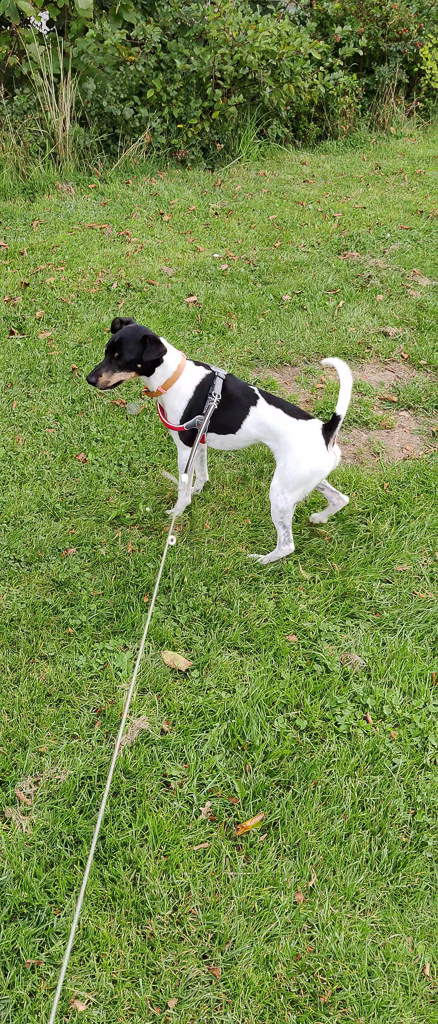Dog: (79, 303, 366, 578)
